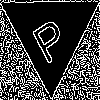P: (25, 9, 71, 65)
